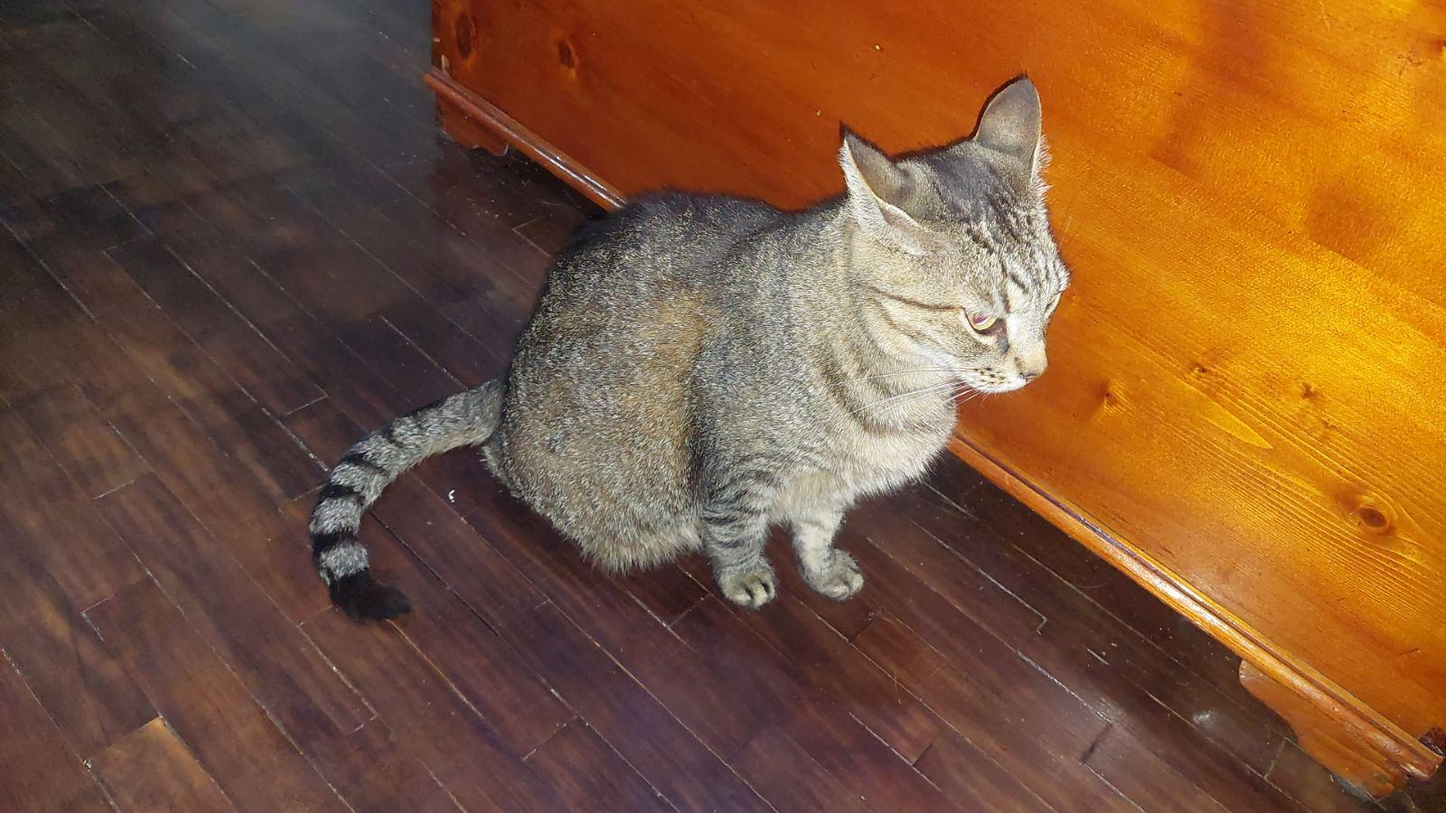macka: (309, 73, 1069, 627)
